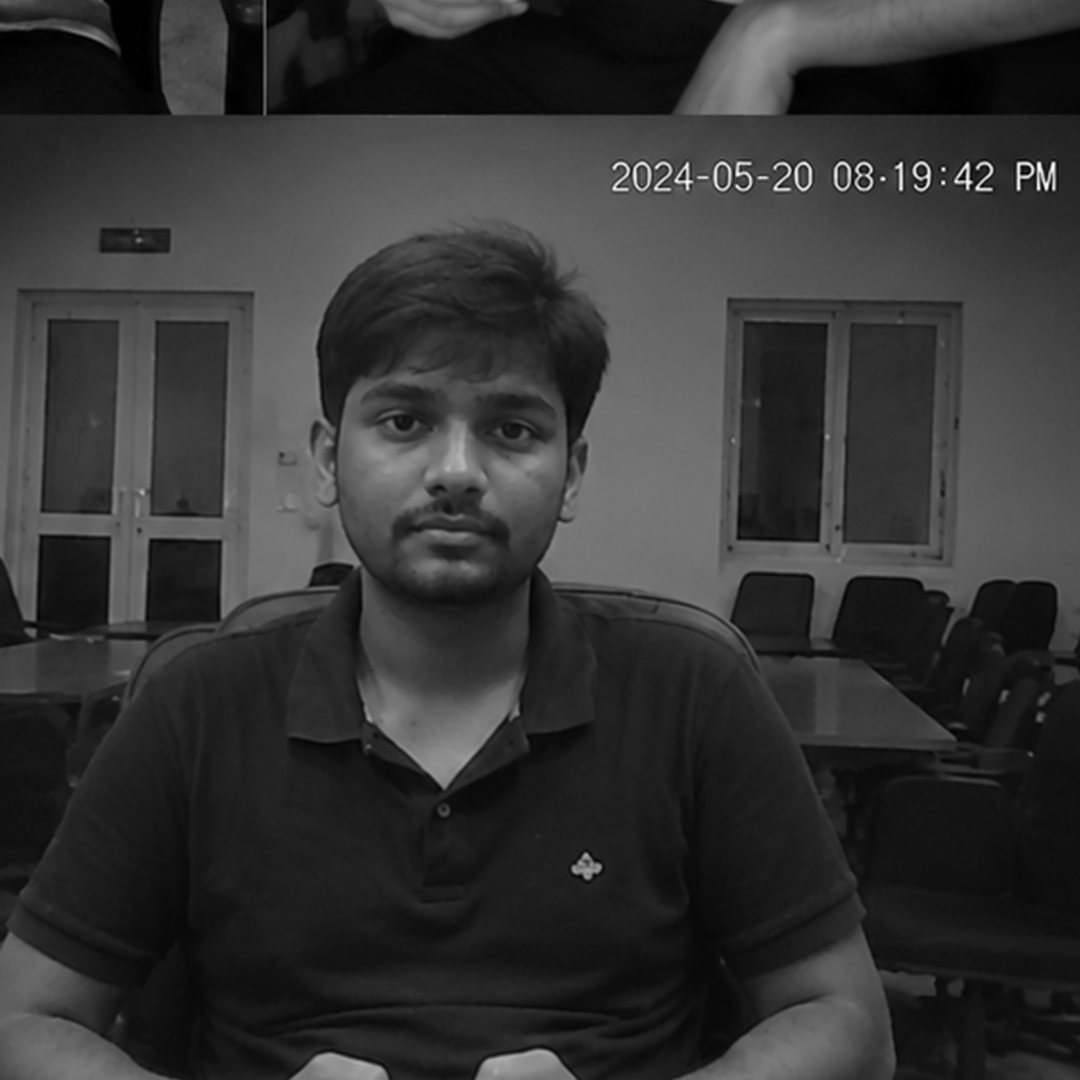Focused: (164, 187, 747, 1015)
